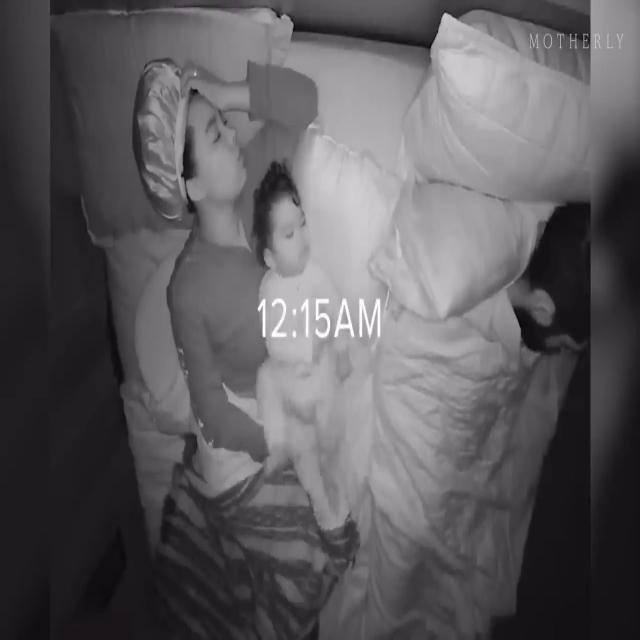baby: (253, 150, 354, 482)
